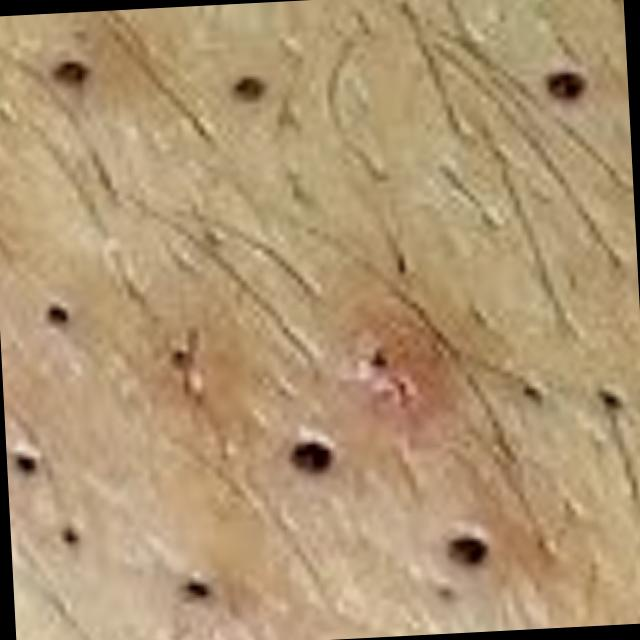blackhead: (450, 540, 484, 566), (295, 445, 327, 472), (552, 75, 582, 98), (240, 80, 260, 102), (63, 63, 81, 82), (172, 353, 190, 369), (50, 306, 66, 323), (18, 457, 36, 471), (604, 395, 619, 410), (190, 584, 206, 597), (372, 358, 387, 368), (64, 532, 76, 544), (398, 258, 406, 274), (524, 388, 536, 398), (440, 591, 450, 598)
